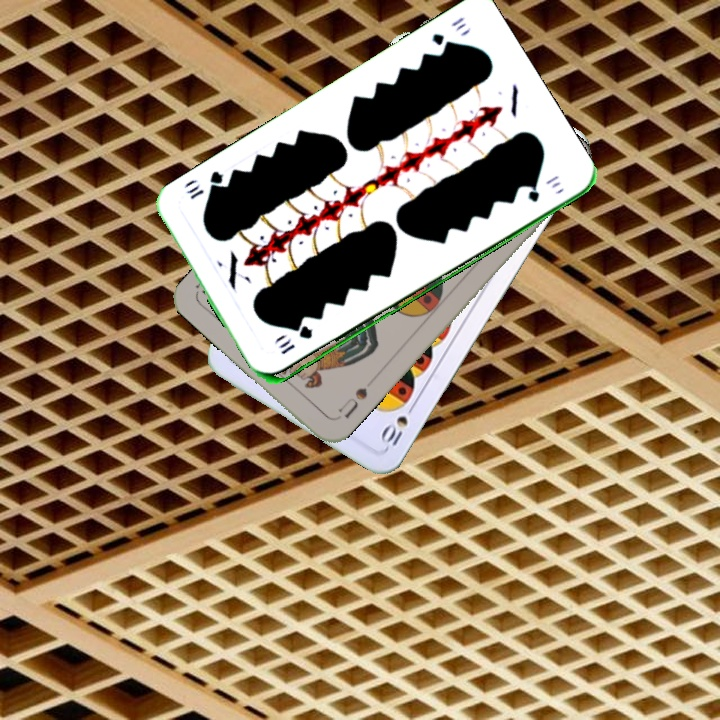G10: (427, 13, 467, 53), (277, 324, 316, 357)
S10: (377, 398, 419, 449)
SU: (331, 383, 370, 423)
